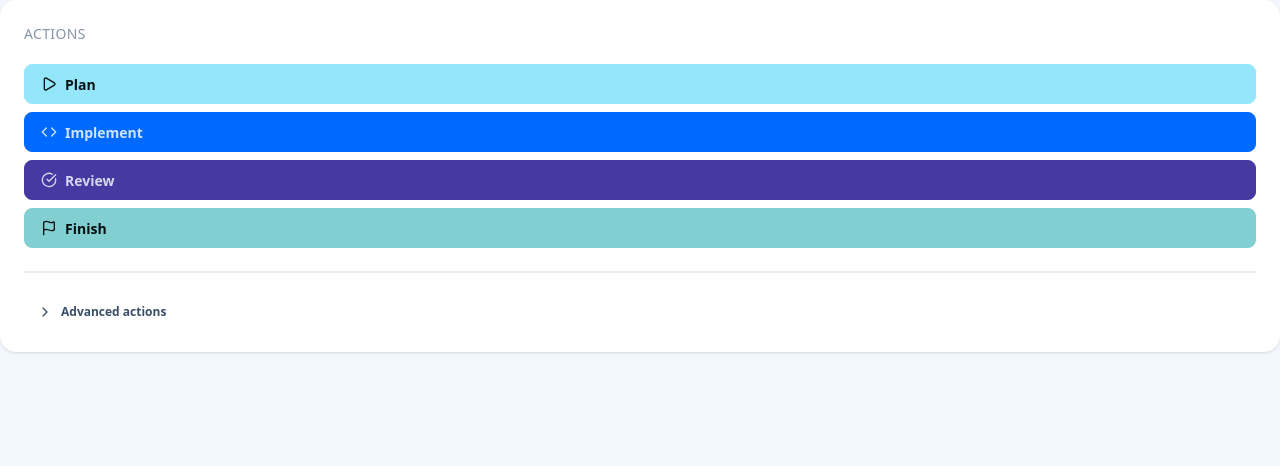
Test: WorkflowActions › shows advanced actions when toggled
Note: Click to show advanced actions
Step 1. Click the button "Advanced actions" → point(114, 312), box [24,296,1256,328]
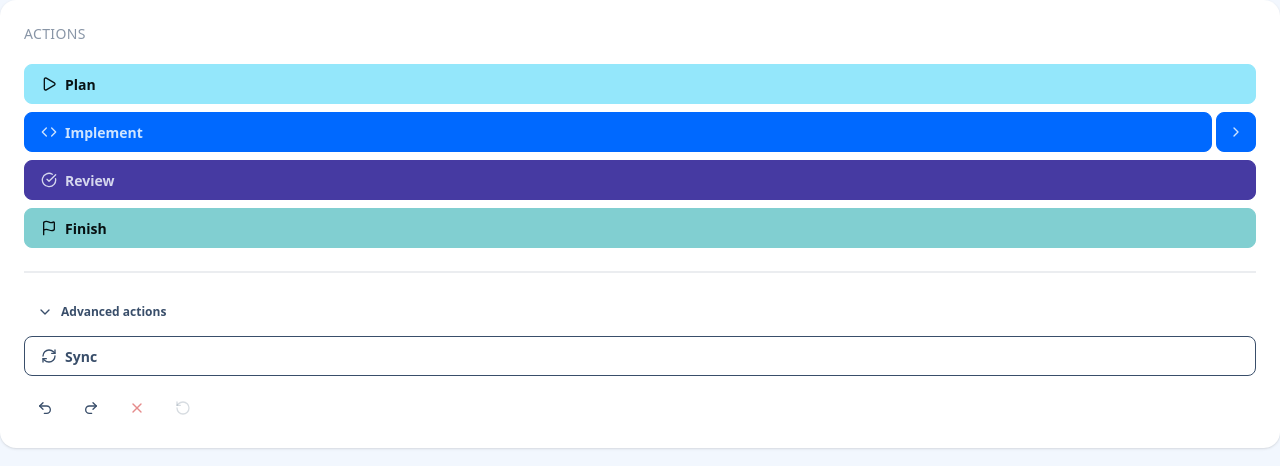
Result: the button "Sync" is shown at [24,336,1256,376]
